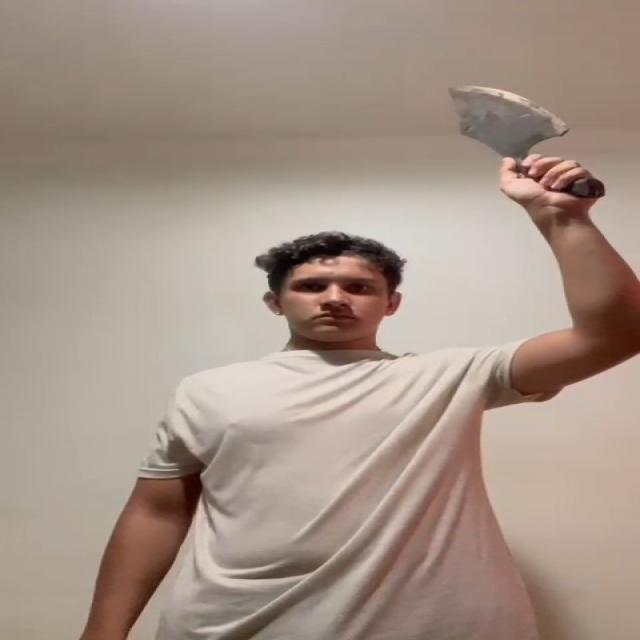knife: (444, 81, 574, 151)
